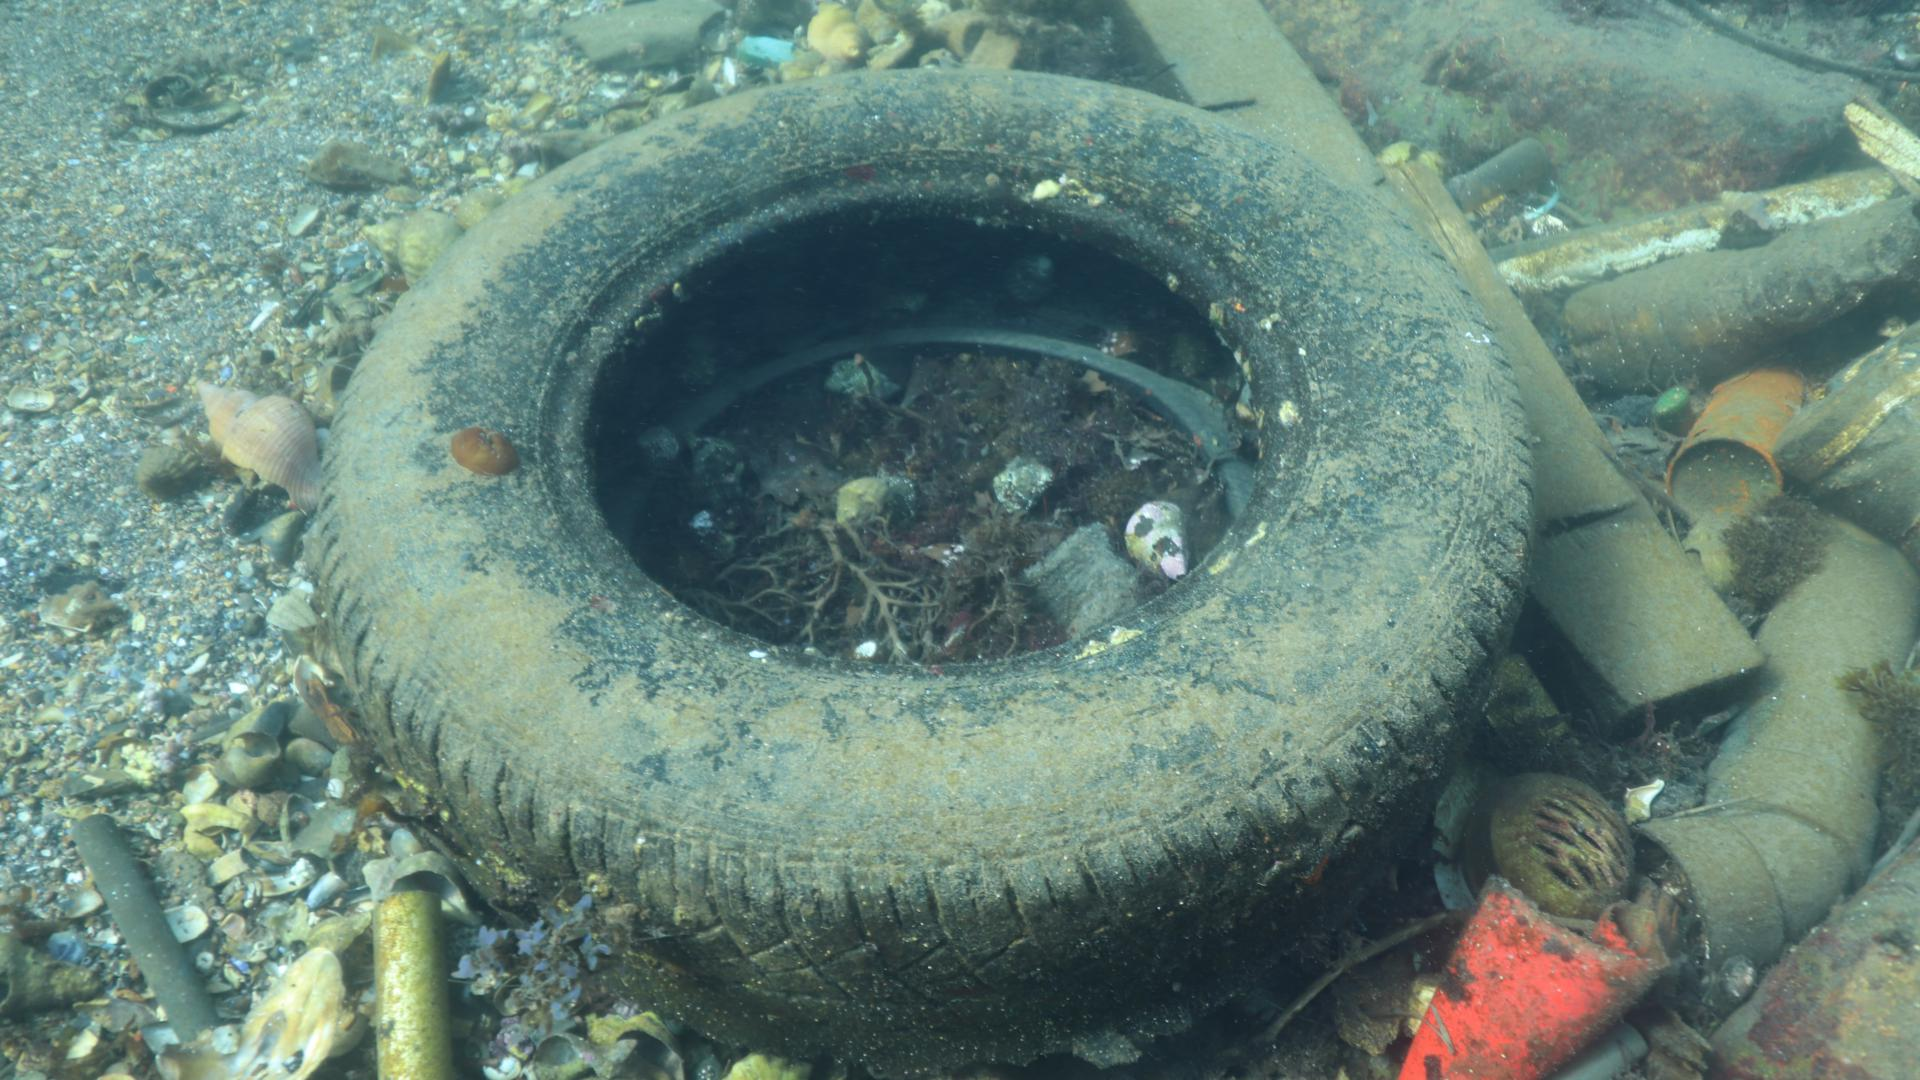tire: (314, 66, 1536, 1080)
wood: (1098, 0, 1783, 736)
